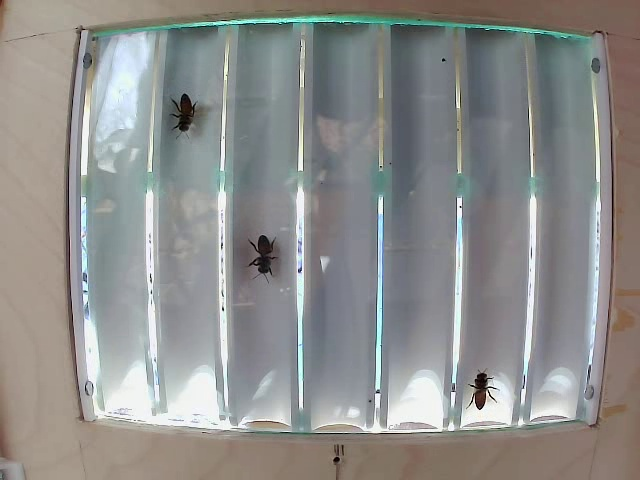bee: (243, 224, 288, 292), (462, 363, 505, 418), (165, 86, 197, 145)
